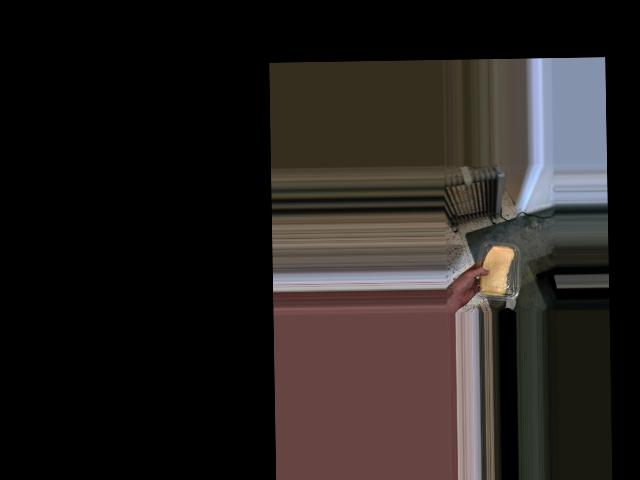cheese: (474, 238, 520, 300)
